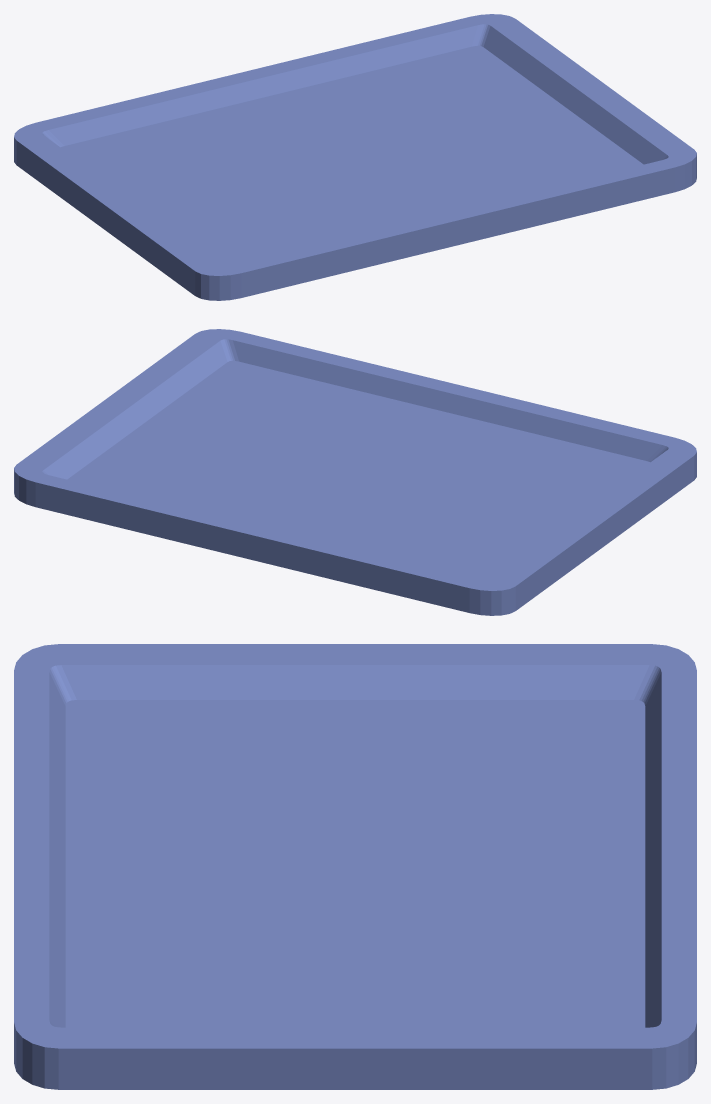
File: bandeja.glb
The picture shows the model from 3 angles, top to bottom: view 1: azimuth 30°, elevation 25°; view 2: azimuth 150°, elevation 25°; view 3: azimuth 270°, elevation 25°; orthographic projection. The views are drawn at different scales.
Parts seen in each view (by area): view 1: bandeja; view 2: bandeja; view 3: bandeja.
Part boxes in pixels (bbox=[...]): bandeja: bbox=[14, 14, 696, 300]; bandeja: bbox=[14, 329, 696, 615]; bandeja: bbox=[14, 644, 696, 1089].
Bounding box in the file's own units: 1.27 × 0.0604 × 0.9041.
